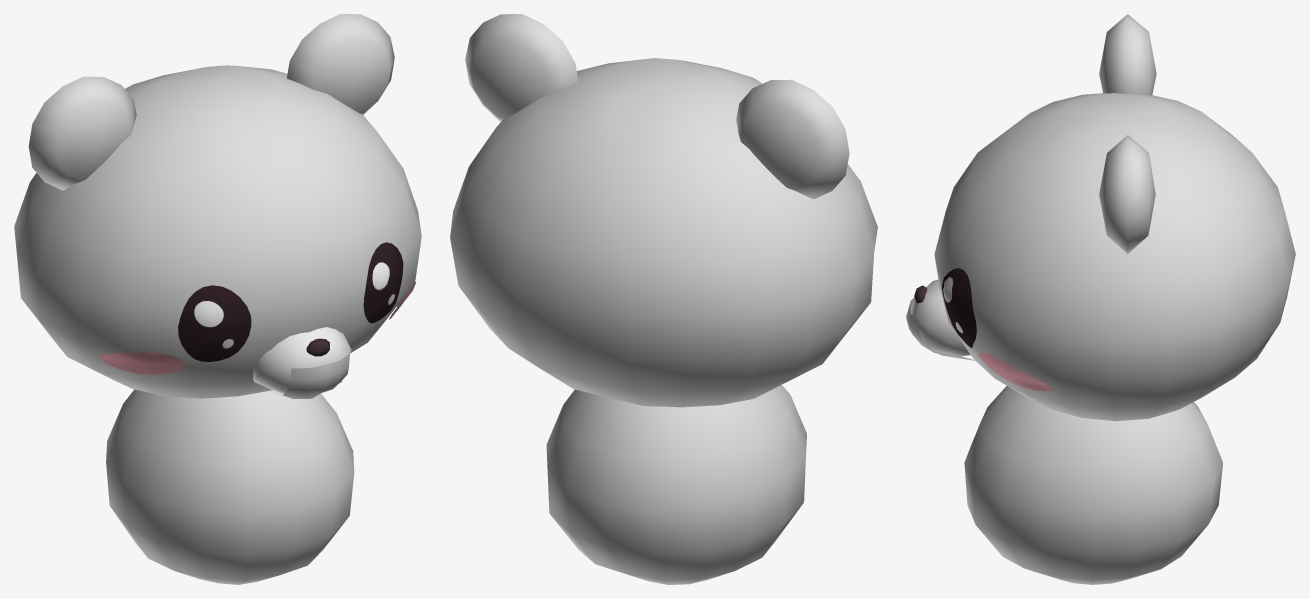
The model's file is bear-v2.fbx.
The picture shows the model from 3 angles, left to right: view 1: azimuth 30°, elevation 25°; view 2: azimuth 150°, elevation 25°; view 3: azimuth 270°, elevation 25°; orthographic projection. The views are drawn at different scales.
Visible parts, largest first — view 1: Bear__Head, Bear__Body, Bear__EarL, Bear__EarR, Bear__EyeL, Bear__Muzzle, Bear__EyeR, Bear__MouthSmile, Bear__BlushL; view 2: Bear__Head, Bear__Body, Bear__EarL, Bear__EarR; view 3: Bear__Head, Bear__Body, Bear__EarR, Bear__EarL, Bear__Muzzle, Bear__EyeR, Bear__BlushR.
Part boxes in pixels (x1=…): Bear__Head: x1=14, y1=65, x2=421, y2=398; Bear__Body: x1=106, y1=389, x2=354, y2=584; Bear__EarL: x1=28, y1=76, x2=136, y2=190; Bear__EarR: x1=287, y1=14, x2=394, y2=114; Bear__EyeL: x1=178, y1=285, x2=251, y2=361; Bear__Muzzle: x1=253, y1=327, x2=351, y2=394; Bear__EyeR: x1=363, y1=242, x2=403, y2=323; Bear__MouthSmile: x1=273, y1=354, x2=349, y2=398; Bear__BlushL: x1=98, y1=352, x2=184, y2=374; Bear__Head: x1=450, y1=58, x2=877, y2=407; Bear__Body: x1=546, y1=385, x2=806, y2=584; Bear__EarL: x1=736, y1=79, x2=849, y2=199; Bear__EarR: x1=465, y1=14, x2=578, y2=122; Bear__Head: x1=934, y1=93, x2=1295, y2=421; Bear__Body: x1=964, y1=386, x2=1222, y2=584; Bear__EarR: x1=1099, y1=135, x2=1155, y2=253; Bear__EarL: x1=1099, y1=14, x2=1156, y2=94; Bear__Muzzle: x1=910, y1=279, x2=970, y2=356; Bear__EyeR: x1=941, y1=268, x2=976, y2=347; Bear__BlushR: x1=978, y1=352, x2=1052, y2=391.
Bounding box in the file's own units: 98.19 × 131 × 94.01.
